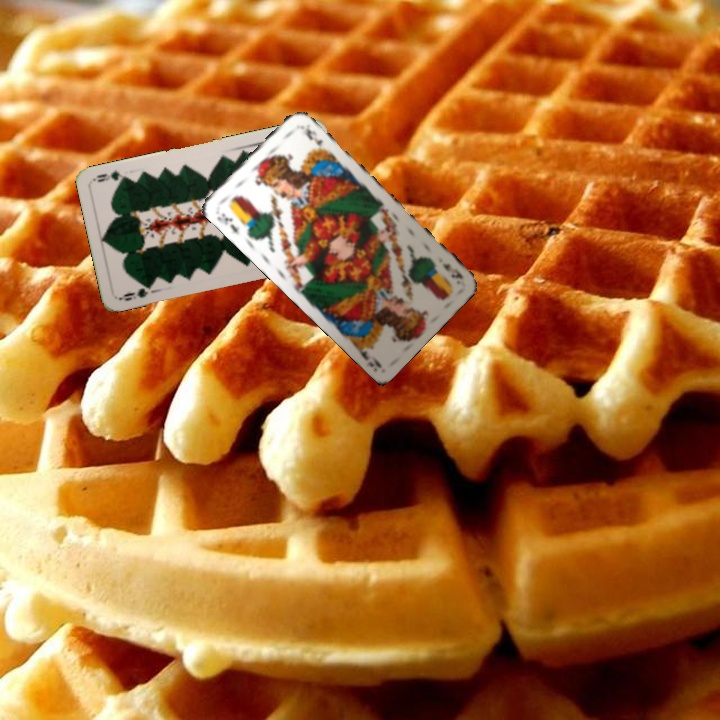EK: (213, 209, 242, 236), (438, 259, 465, 282)
G9: (116, 280, 155, 303)
